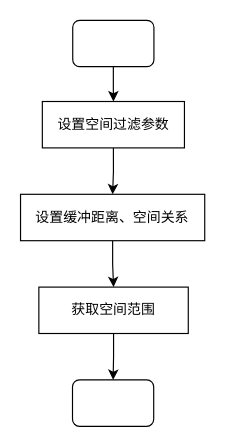
This 225x447 diagram has some shape labels left out. The shapes that lost their labels are listed below. From the top down, each one's centre as x and y in pixels, then its label:
point (113, 43): 开始
point (112, 402): 结束
